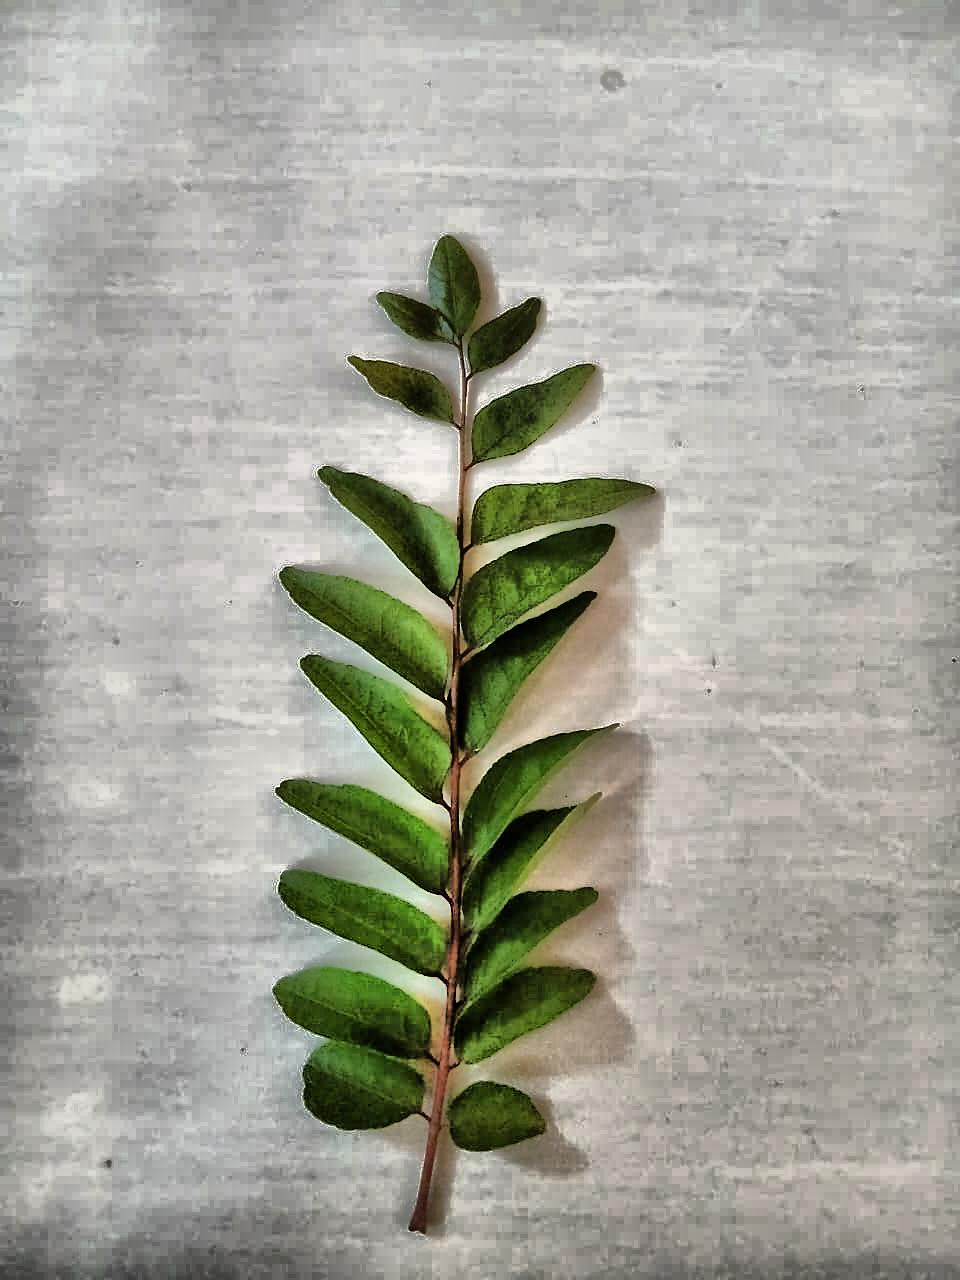daun kari: (274, 237, 654, 1231)
